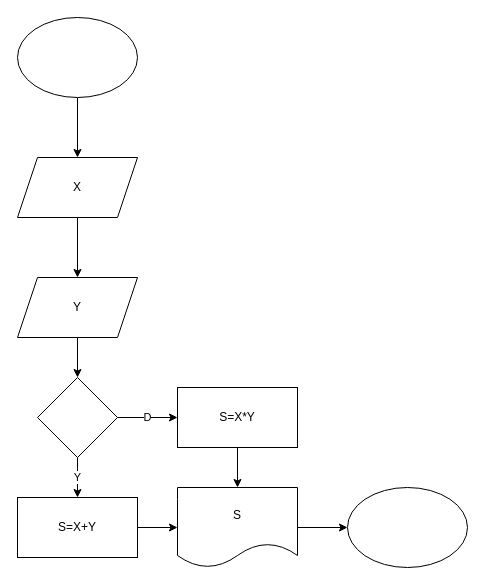
The diagram is 485 pixels wide and 585 high, and some of its shapes have lost their labels. Each missing label, with the centre of its shape:
Başla: pixel 77 57
SON: pixel 407 527
X>Y: pixel 77 417
